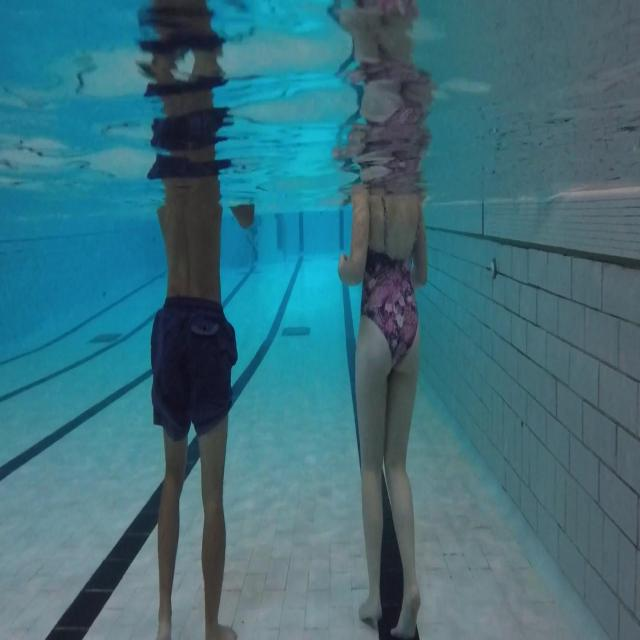human: (135, 1, 256, 637), (328, 1, 434, 637)
